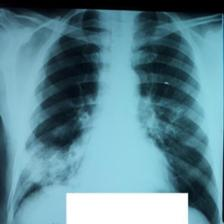tuberculosis: (7, 8, 224, 224)
